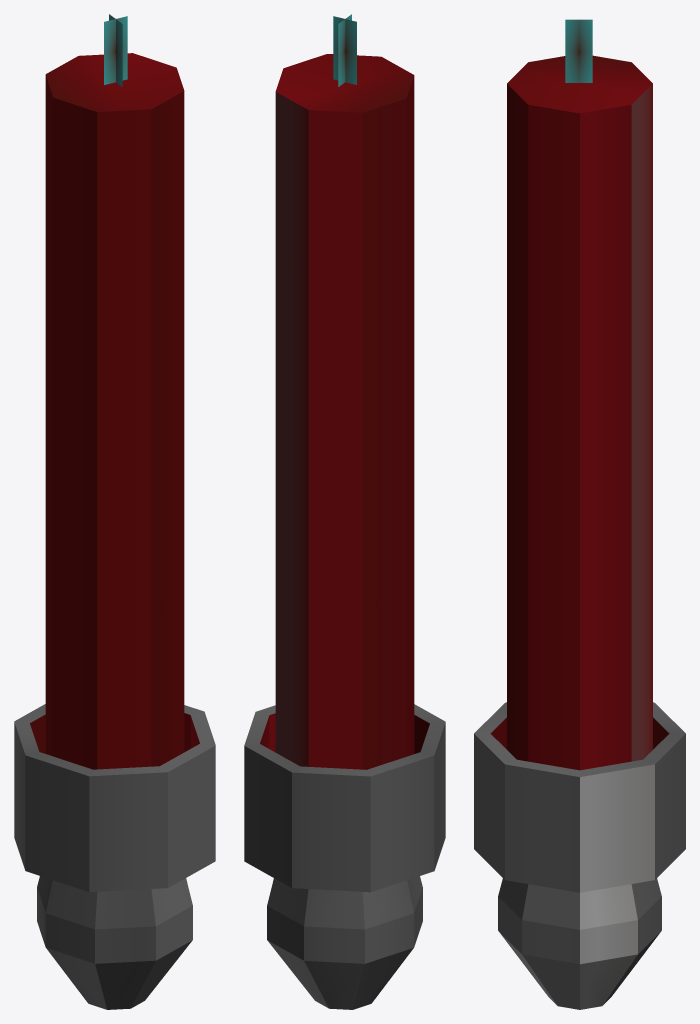
File: candle_336x09.obj
3 views of the same model, side by side, from view 1: azimuth 30°, elevation 25°; view 2: azimuth 150°, elevation 25°; view 3: azimuth 270°, elevation 25° (orthographic).
Visible parts, largest first — view 1: Candle_336x9; view 2: Candle_336x9; view 3: Candle_336x9.
Boxes of the visible parts, <box> form: Candle_336x9: <box>14,14,215,1009</box>; Candle_336x9: <box>244,14,445,1009</box>; Candle_336x9: <box>474,19,685,1009</box>.
Size of the model in its own units: 0.2129 by 1.11 by 0.2184.
